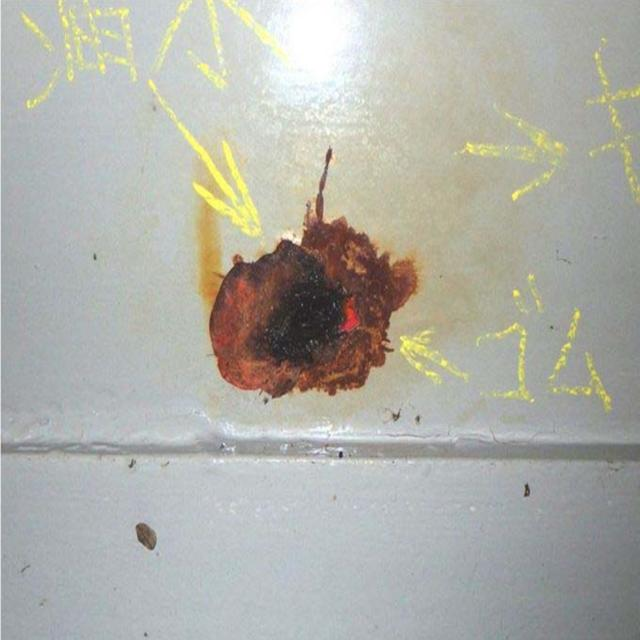corrosion: (196, 154, 430, 410)
